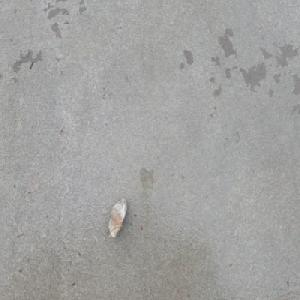Rock: (107, 195, 127, 240)
